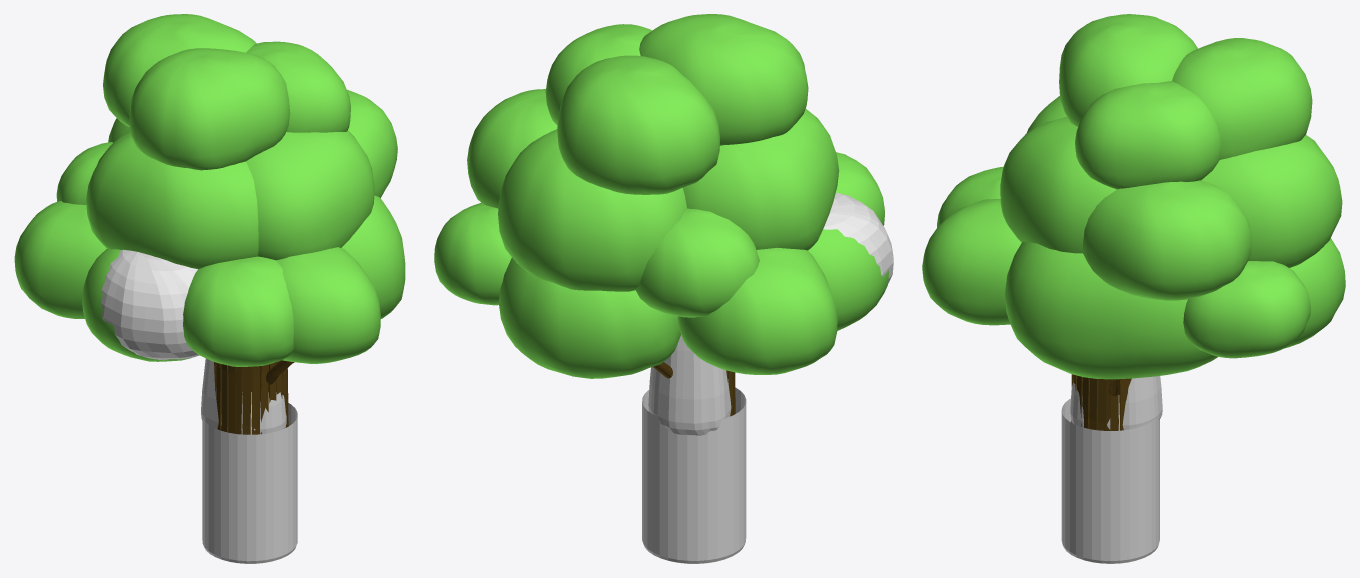
File: Tree.fbx
3 renders of one model, left to right at view 1: azimuth 30°, elevation 25°; view 2: azimuth 150°, elevation 25°; view 3: azimuth 270°, elevation 25°, orthographic. The views are drawn at different scales.
Visible parts, largest first — view 1: BigRock.005, BigRock.009, BigRock.013, Circle, BigRock.012, BigRock.001, BigRock.010, BigRock.011, BigRock.002, BigRock.008, BigRock.006, BigRock.003 (+8 smaller); view 2: BigRock.002, BigRock.007, Circle, BigRock.014, BigRock.009, BigRock.011, BigRock.005, BigRock.016, BigRock.015, BigRock.003, Cylinder, BigRock.004 (+4 smaller); view 3: BigRock.006, BigRock.003, Circle, BigRock.008, BigRock.002, BigRock.007, BigRock.013, BigRock.015, BigRock.001, BigRock.009, BigRock.014, Cylinder (+2 smaller).
Boxes of the visible parts, x1,y1,x2,y2 form: BigRock.005: [86, 132, 258, 269]; BigRock.009: [129, 48, 290, 170]; BigRock.013: [246, 130, 374, 260]; Circle: [202, 403, 297, 563]; BigRock.012: [183, 256, 293, 366]; BigRock.001: [276, 247, 380, 363]; BigRock.010: [101, 249, 199, 360]; BigRock.011: [14, 201, 106, 318]; BigRock.002: [103, 14, 256, 127]; BigRock.008: [246, 41, 350, 132]; BigRock.006: [341, 195, 405, 318]; BigRock.003: [347, 89, 397, 197]; BigRock.002: [557, 55, 719, 194]; BigRock.007: [498, 129, 686, 291]; Circle: [642, 387, 746, 563]; BigRock.014: [498, 258, 680, 378]; BigRock.009: [639, 14, 808, 145]; BigRock.011: [678, 247, 837, 374]; BigRock.005: [683, 109, 839, 250]; BigRock.016: [635, 208, 759, 317]; BigRock.015: [434, 203, 511, 305]; BigRock.003: [467, 89, 557, 208]; Cylinder: [648, 335, 731, 423]; BigRock.004: [808, 229, 888, 330]; BigRock.006: [1004, 241, 1218, 379]; BigRock.003: [1083, 180, 1251, 300]; Circle: [1061, 398, 1159, 563]; BigRock.008: [1075, 81, 1221, 189]; BigRock.002: [1172, 38, 1312, 159]; BigRock.007: [1201, 135, 1342, 267]; BigRock.013: [1000, 116, 1116, 253]; BigRock.015: [1183, 261, 1310, 358]; BigRock.001: [922, 199, 1021, 325]; BigRock.009: [1059, 14, 1197, 126]; BigRock.014: [1285, 238, 1345, 348]; Cylinder: [1070, 376, 1162, 425].
Bounding box in the file's own units: 1139 × 1544 × 1182.
